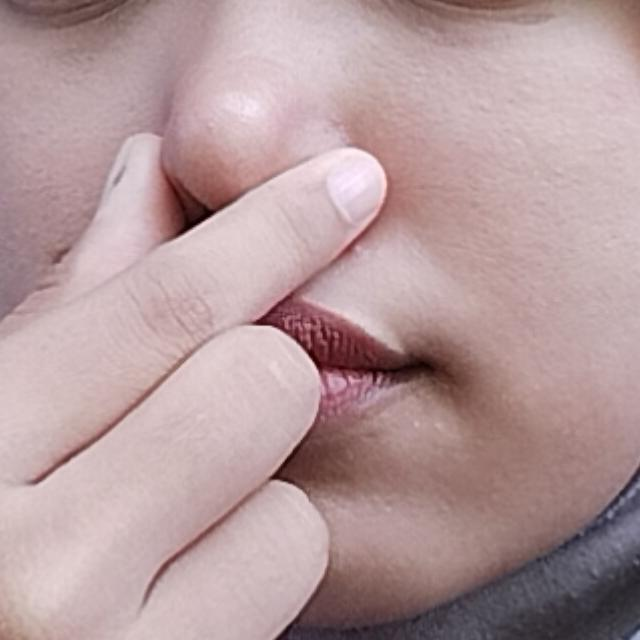bau: (0, 138, 456, 640)
